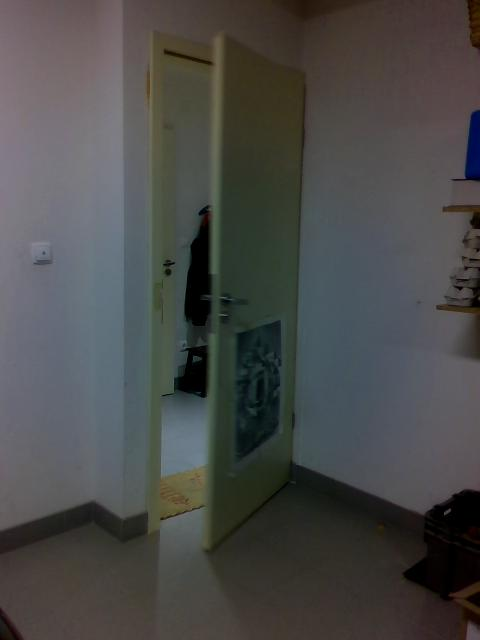semi_door: (142, 22, 306, 557)
